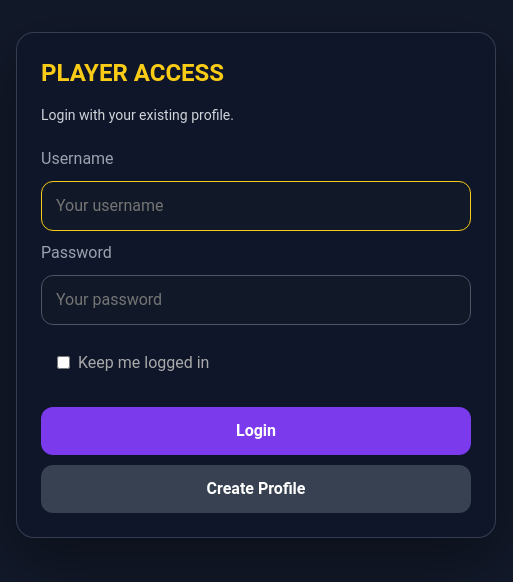
LoginOverlay › switches to create profile and returns to login on cancel
Step 1. Click the button "Create Profile" → [256, 489], box [41,465,471,513]
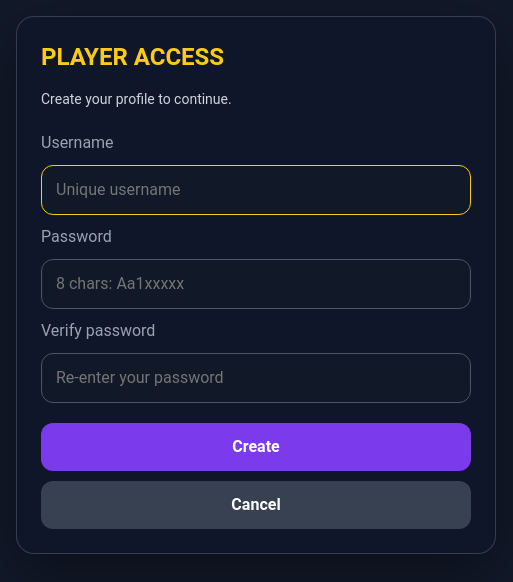
Expected: the button "Create" is shown, [41,423,471,471]
Expected: the button "Cancel" is shown
Expected: the password field labelled "Verify password" is shown, [41,353,471,403]
Step 2. Click the button "Cancel" → [256, 505], box [41,481,471,529]
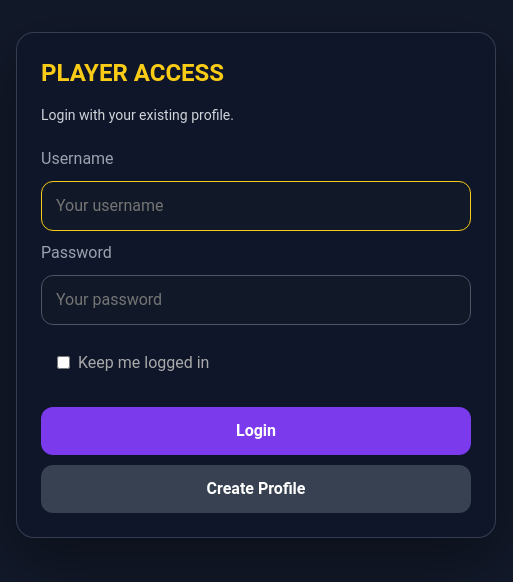
Expected: the button "Login" is shown, [41,407,471,455]
Expected: the checkbox labelled "Keep me logged in" is shown, [57,356,70,369]
Expected: the label labelled "Verify password" is gone
